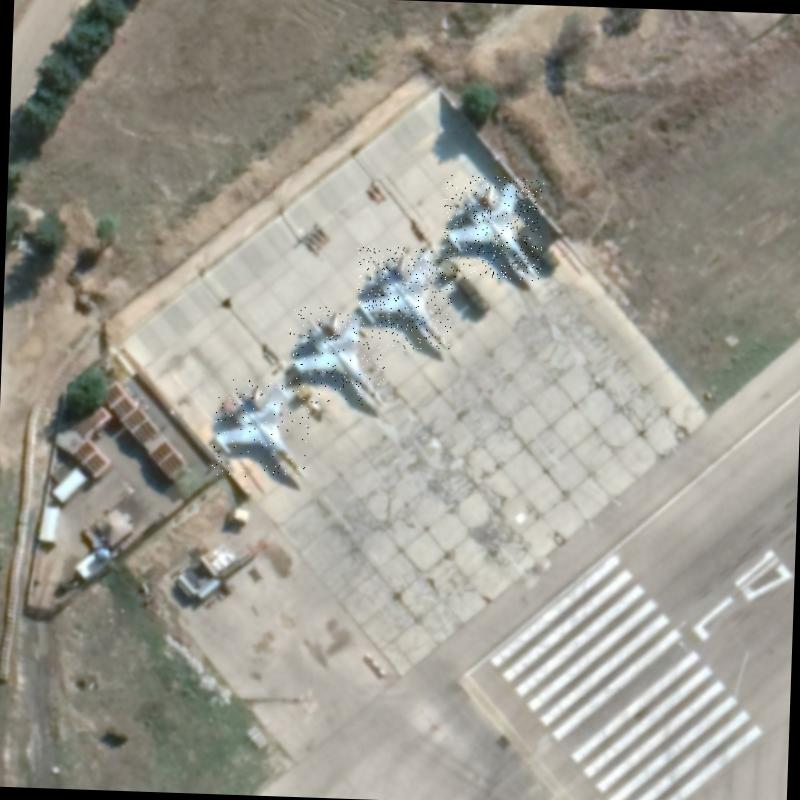A1: (441, 174, 544, 280), (354, 246, 453, 350), (210, 377, 310, 478), (287, 306, 387, 406)
